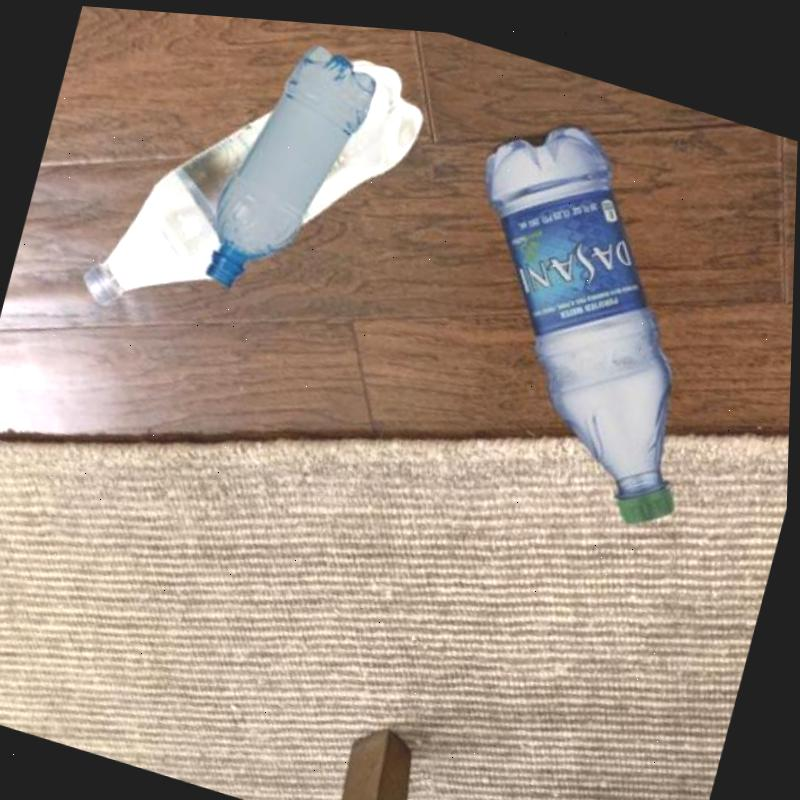botella: (408, 87, 765, 531), (78, 5, 434, 378), (197, 22, 382, 309)
